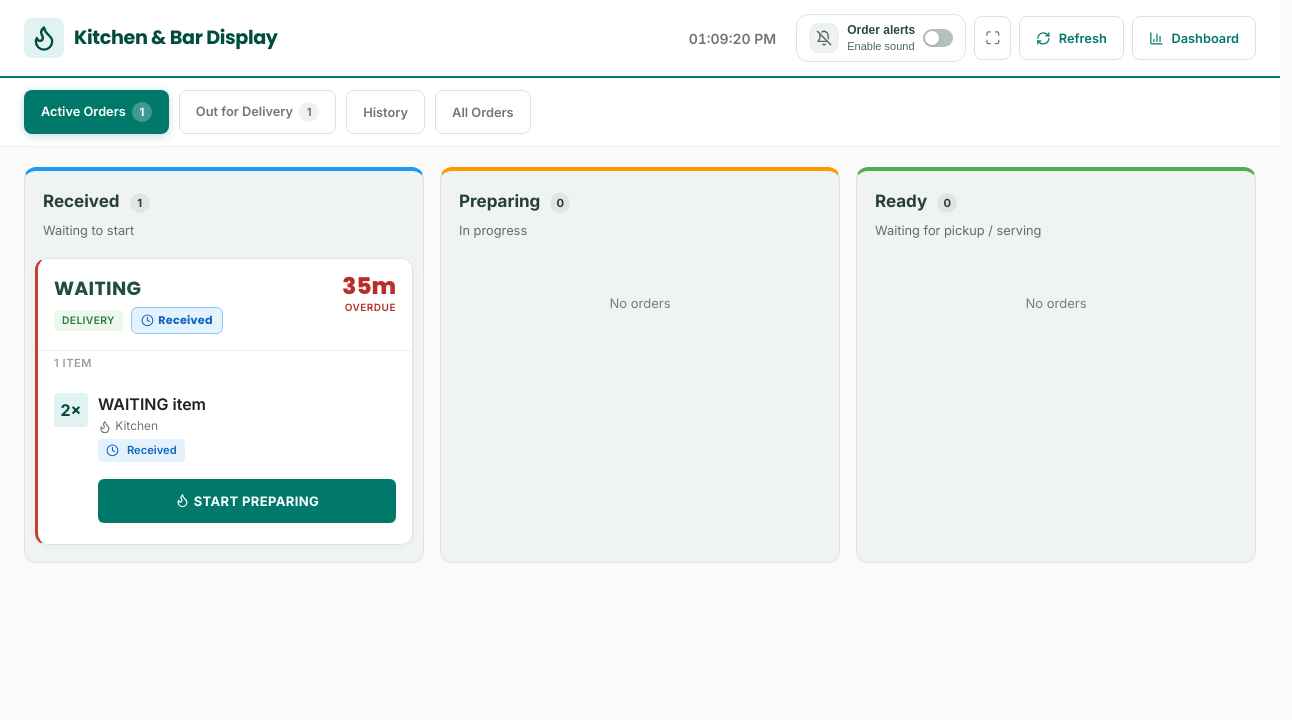
Test case: keeps three working lanes and exposes delivery and fetched history separately
The width and height of the screenshot is (1292, 720).
expect the text "WAITING" is shown: met, box [54,275,141,302]
expect the text "Overdue" is shown: met, box [345,300,396,315]
Click the button "Out for Delivery 1" at (257, 112), box [179,90,336,134]
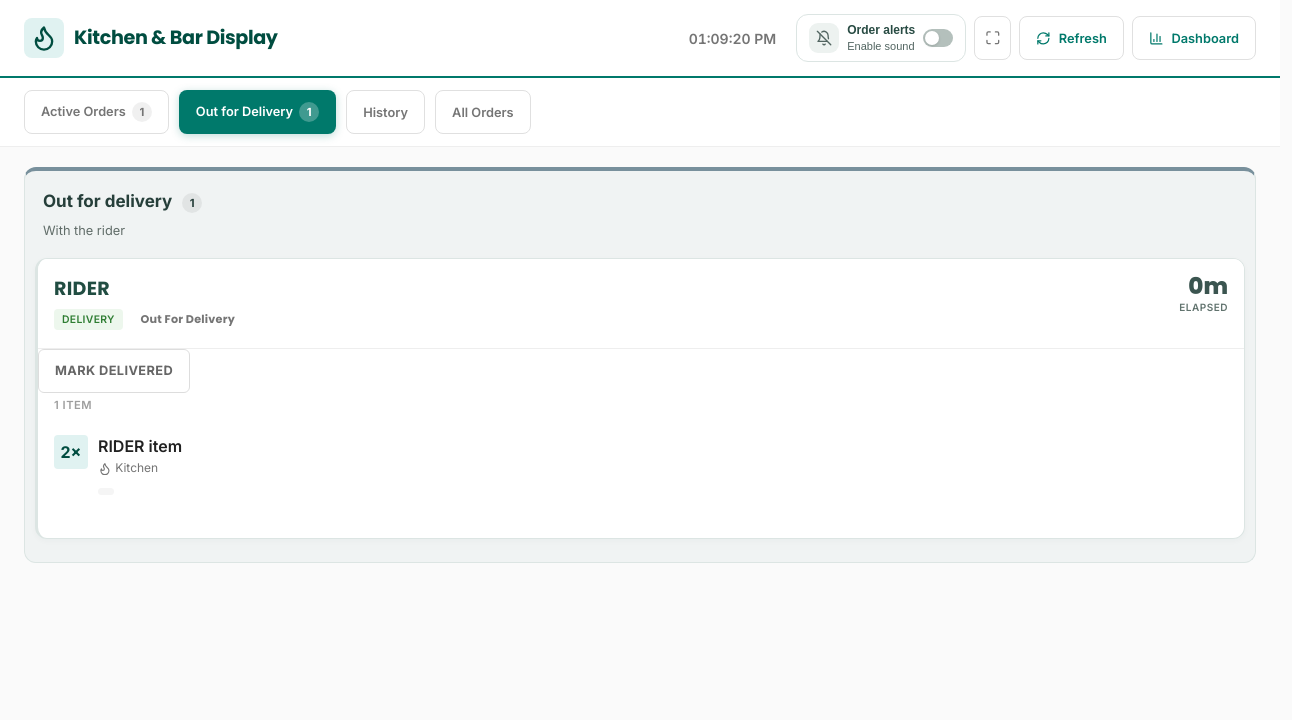
expect the text "RIDER" is shown: met, box [54,275,110,302]
expect the button "Mark delivered" is shown: met, box [38,349,190,393]
expect the text "Overdue" is gone: met
Click the button "History" at (386, 112), box [346,90,425,134]
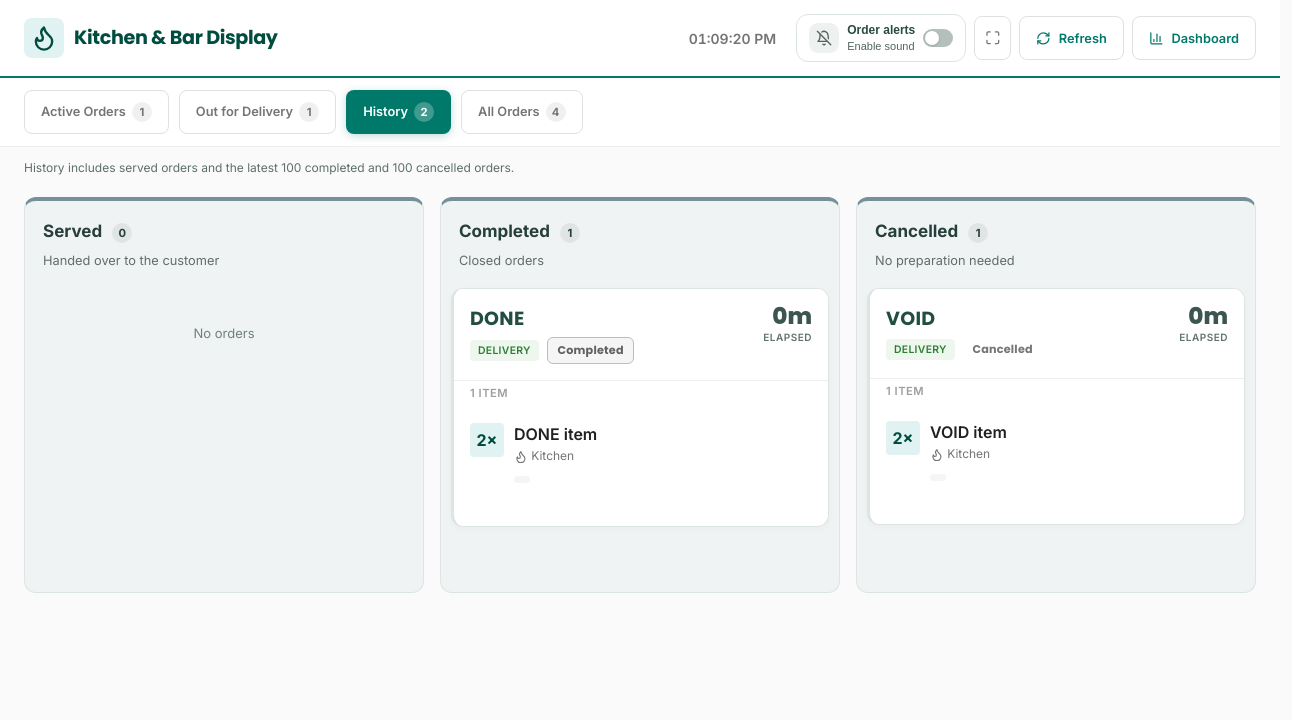
expect the text "DONE" is shown: met, box [470,305,524,332]
expect the text "VOID" is shown: met, box [886,305,935,332]
expect the text "rider" is gone: met
Click the button "All Orders 4" at (522, 112), box [461,90,583,134]
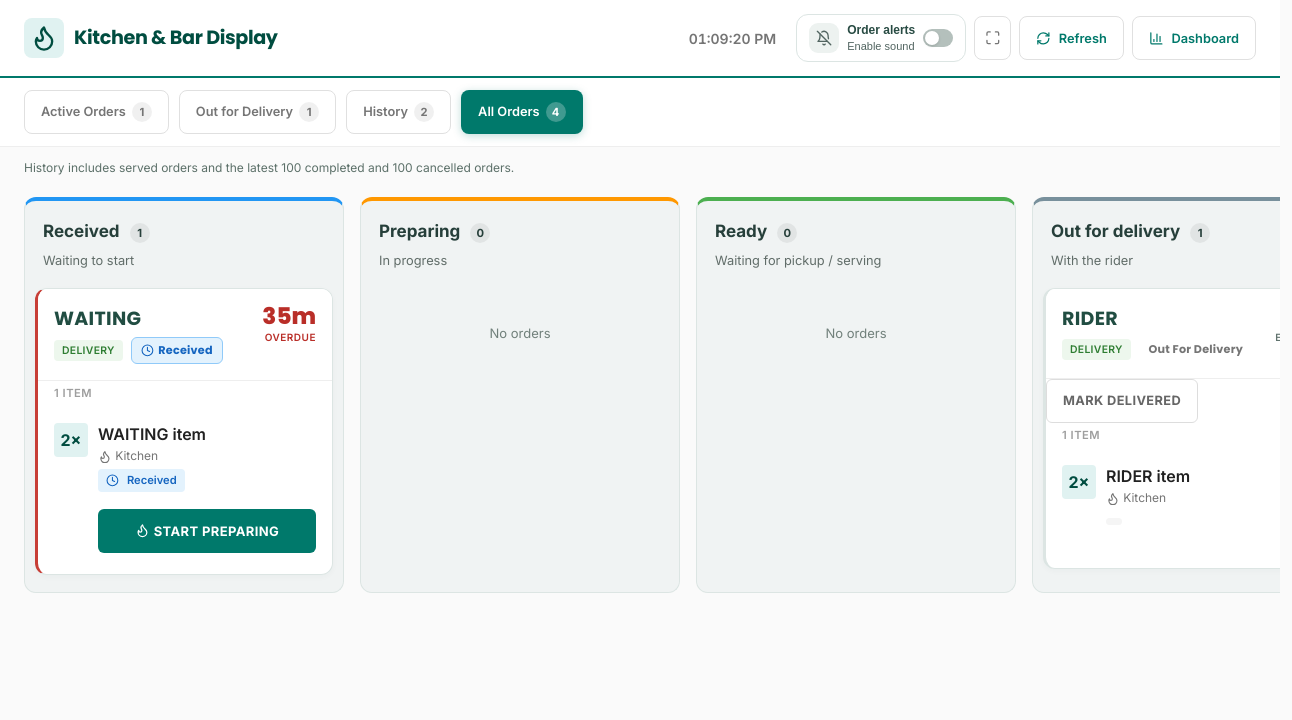
expect the text "RIDER" is shown: met, box [1062,305,1118,332]
expect the text "WAITING" is shown: met, box [54,305,141,332]
